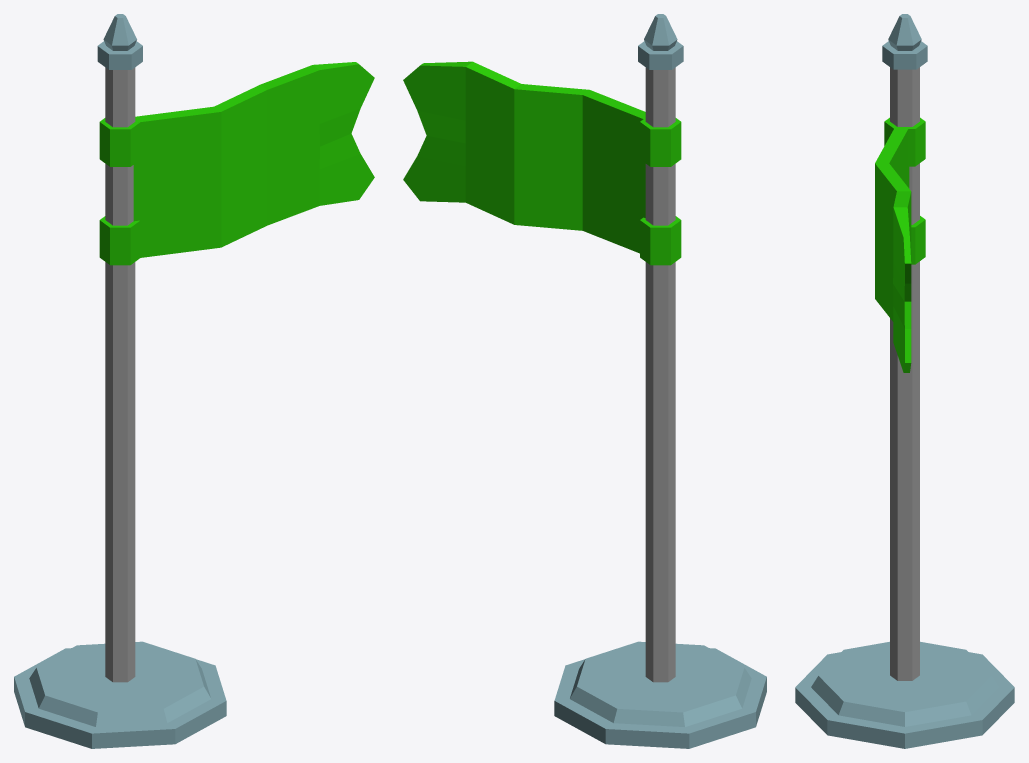
Rendered from Flag green.glb.
3 renders of one model, left to right at view 1: azimuth 30°, elevation 25°; view 2: azimuth 150°, elevation 25°; view 3: azimuth 270°, elevation 25°, orthographic.
Visible parts, largest first — view 1: Flag_Cylinder; view 2: Flag_Cylinder; view 3: Flag_Cylinder.
Boxes of the visible parts, x1,y1,x2,y2 form: Flag_Cylinder: (14, 14, 374, 748); Flag_Cylinder: (403, 14, 766, 748); Flag_Cylinder: (795, 14, 1014, 748).
Size of the model in its own units: 1.51 by 2.84 by 0.8238.
